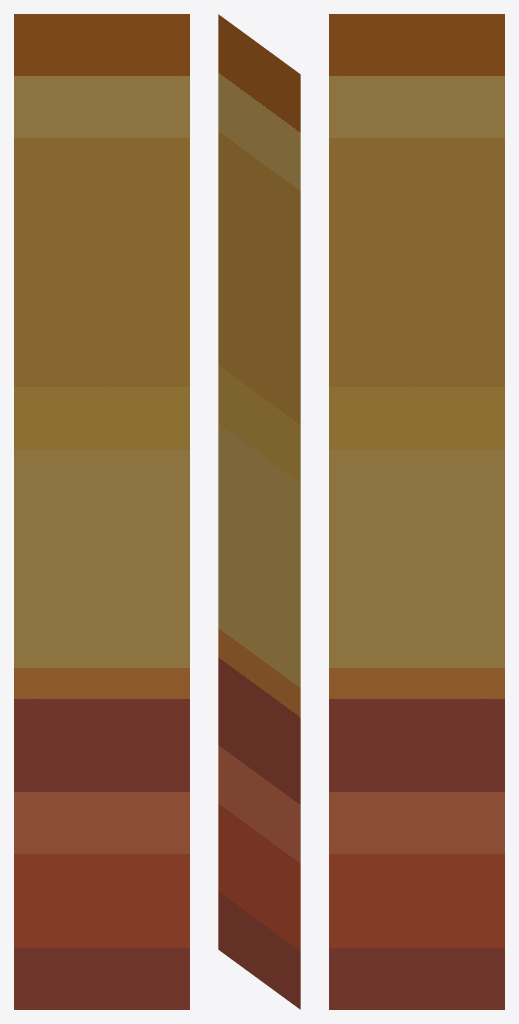
3 renders of one model, left to right at view 1: azimuth 90°, elevation 25°; view 2: azimuth 210°, elevation 25°; view 3: azimuth 270°, elevation 25°, orthographic. The views are drawn at different scales.
Bounding box in the file's own units: 0 × 3.12 × 0.5.
1 material, 1 textured.
